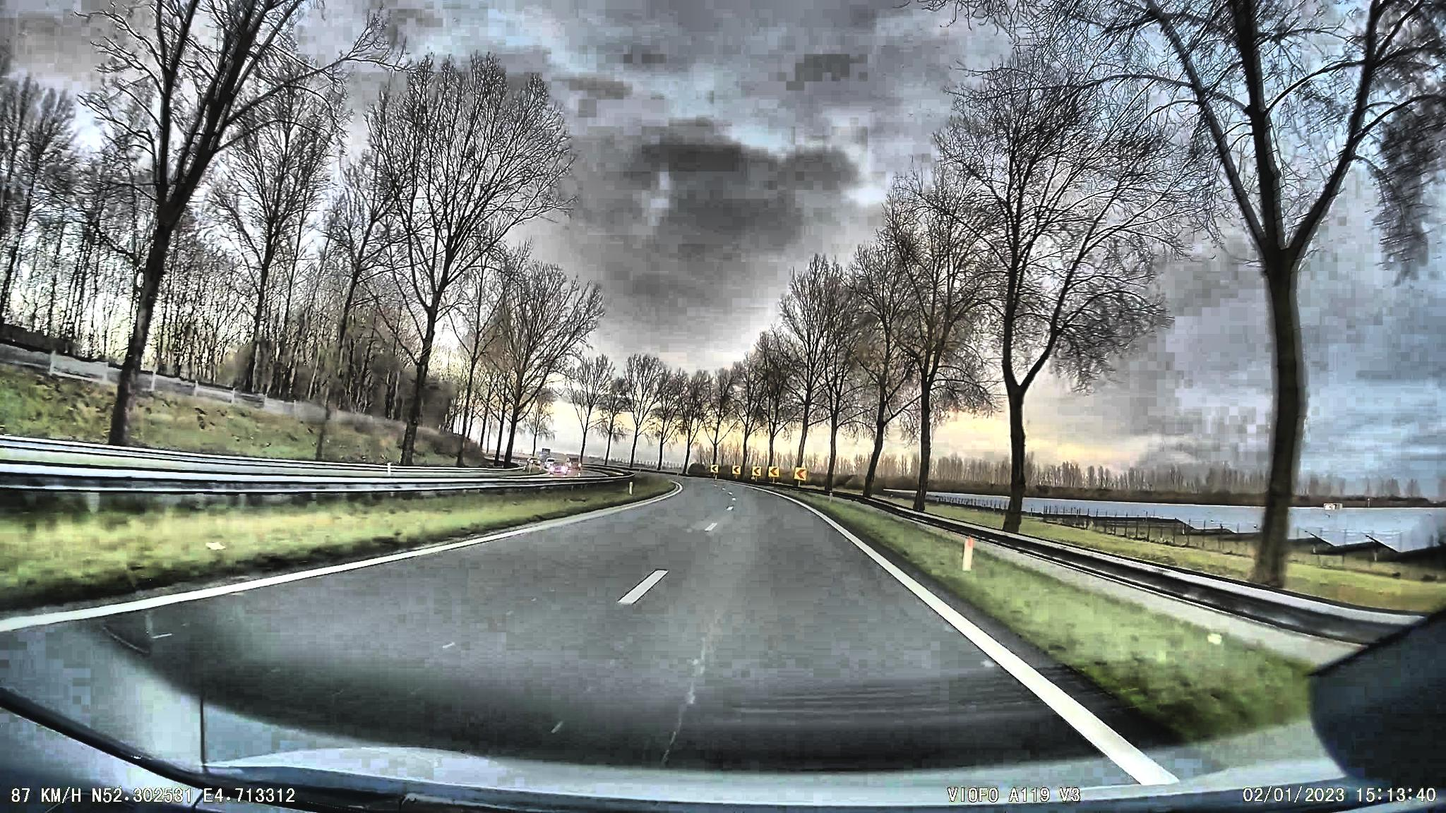Roads: (0, 478, 1131, 813)
